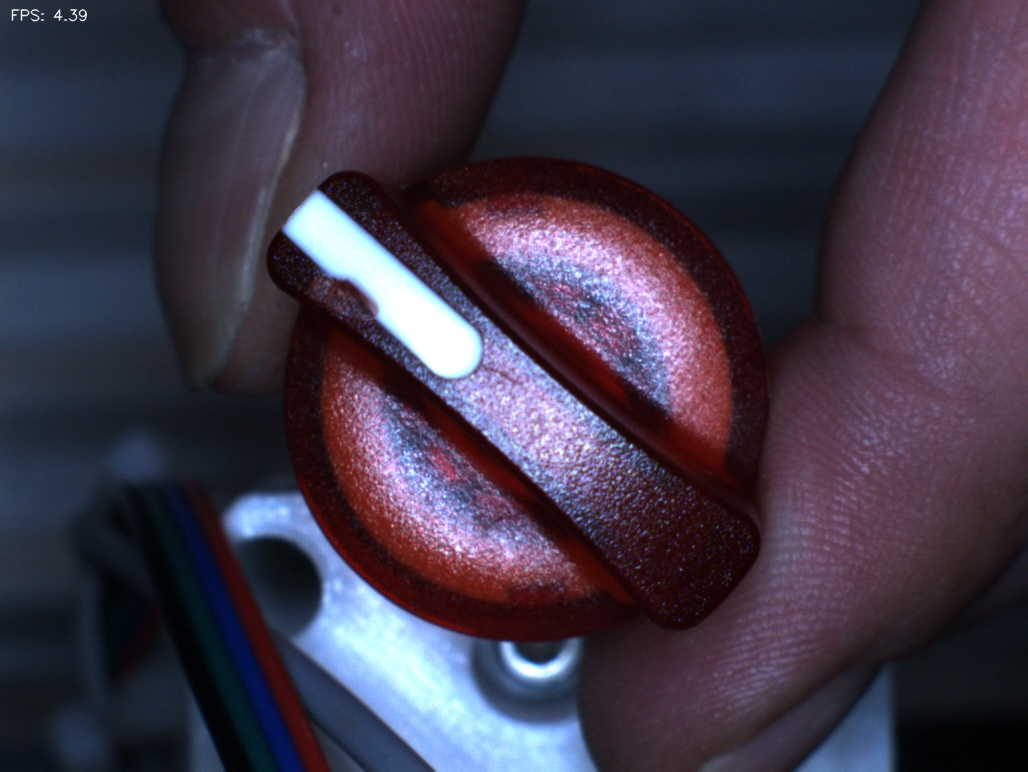Choc: (283, 243, 381, 341)
